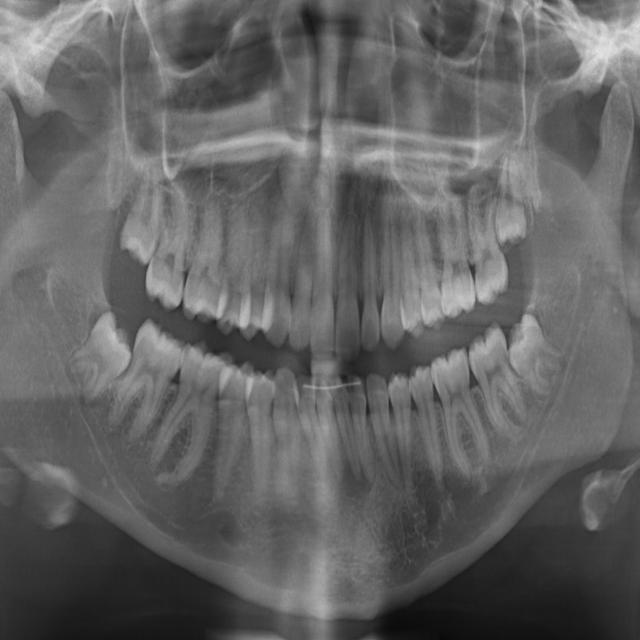3M ESPE Implant: (116, 153, 162, 268)
AGS Medikal Implant: (361, 211, 380, 353)
AMerOss Implant: (371, 193, 408, 350)
Amalgam filling: (391, 204, 427, 341)
Anthogyr Implant: (403, 188, 448, 334)
Bicon Implant: (429, 187, 478, 322)
BioHorizons Implant: (463, 170, 512, 308)
BioLife Implant: (494, 149, 528, 248)
Biomet 3i Implant: (489, 308, 583, 404)
Blue Sky Bio Implant: (460, 319, 535, 448)
Camlog Implant: (427, 343, 497, 485)
Caries: (141, 164, 198, 315)
Composite filling: (407, 362, 450, 498)
Cowellmedi Implant: (386, 370, 428, 516)
Crown: (363, 367, 403, 497)
DENTSPLY Implant: (346, 372, 379, 487)
Dentatus Implant: (328, 373, 368, 488)
Dentis Implant: (311, 371, 348, 487)
Dentium Implant: (292, 369, 335, 496)
Euroteknika Implant: (267, 363, 309, 521)
Filling: (244, 367, 275, 513)
Frontier Implant: (197, 357, 257, 507)
Hiossen Implant: (180, 189, 236, 326)
Implant: (100, 315, 192, 454)
Implant Direct: (140, 335, 238, 500)
Keystone Dental Implant: (49, 308, 147, 416)
MIS Implant: (215, 190, 253, 337)
Mandible: (240, 194, 270, 343)
Maxilla: (260, 190, 299, 351)
Megagen Implant: (287, 196, 318, 351)
Neodent Implant: (311, 207, 334, 361)
Neoss Implant: (334, 213, 361, 366)
